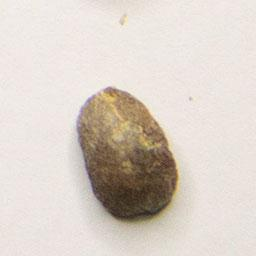defect: (70, 77, 186, 228)
